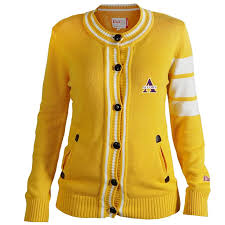C_cardigan sweater: (20, 7, 206, 225)
